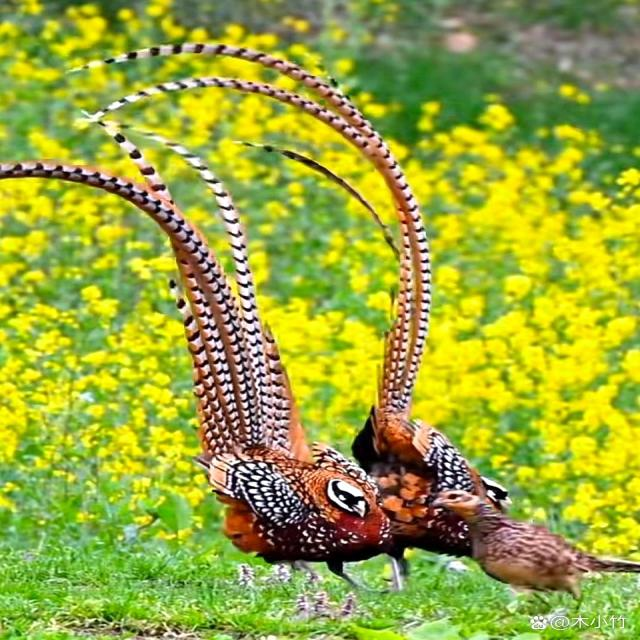Reeves-s Pheasant: (68, 44, 433, 422), (0, 107, 292, 460)
